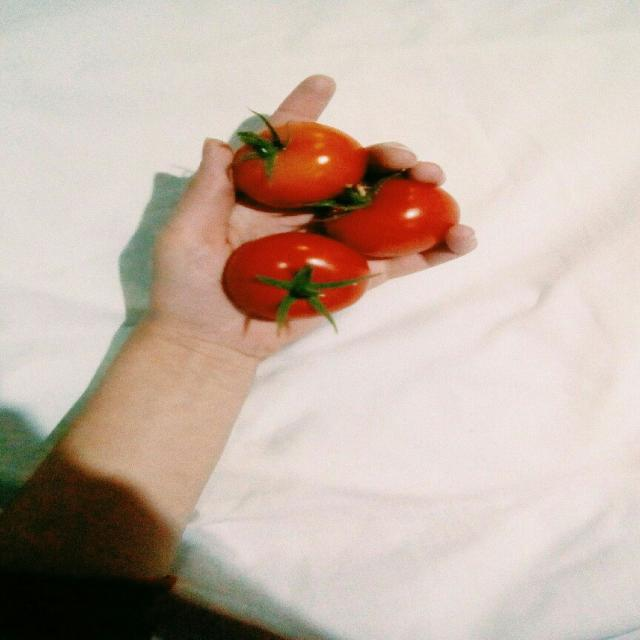level 6: (224, 234, 366, 322), (322, 172, 460, 257), (225, 123, 366, 205)
